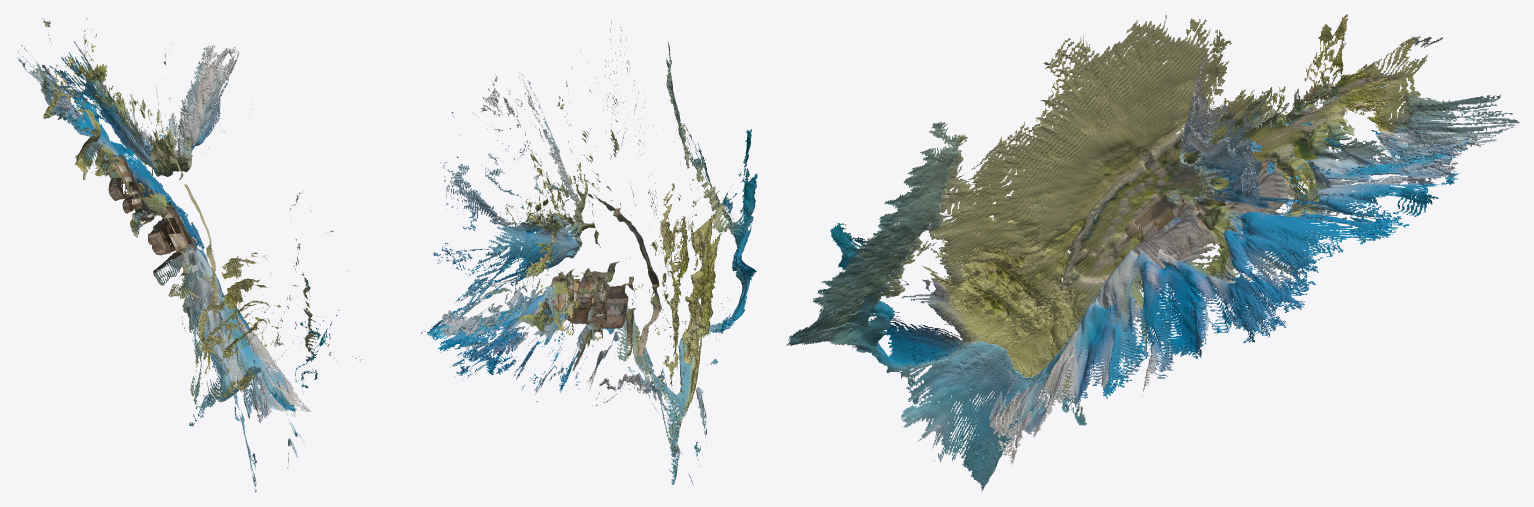
Rendered from hunyuan_scene_001.glb.
The picture shows the model from 3 angles, left to right: view 1: azimuth 30°, elevation 25°; view 2: azimuth 150°, elevation 25°; view 3: azimuth 270°, elevation 25°; orthographic projection. The views are drawn at different scales.
Parts seen in each view (by area): view 1: hunyuan_scene_001; view 2: hunyuan_scene_001; view 3: hunyuan_scene_001.
Part boxes in pixels (<box>): hunyuan_scene_001: <box>17,18,361,492</box>; hunyuan_scene_001: <box>421,21,757,485</box>; hunyuan_scene_001: <box>786,14,1519,492</box>.
Size of the model in its own units: 8.11 by 23.1 by 31.62.
